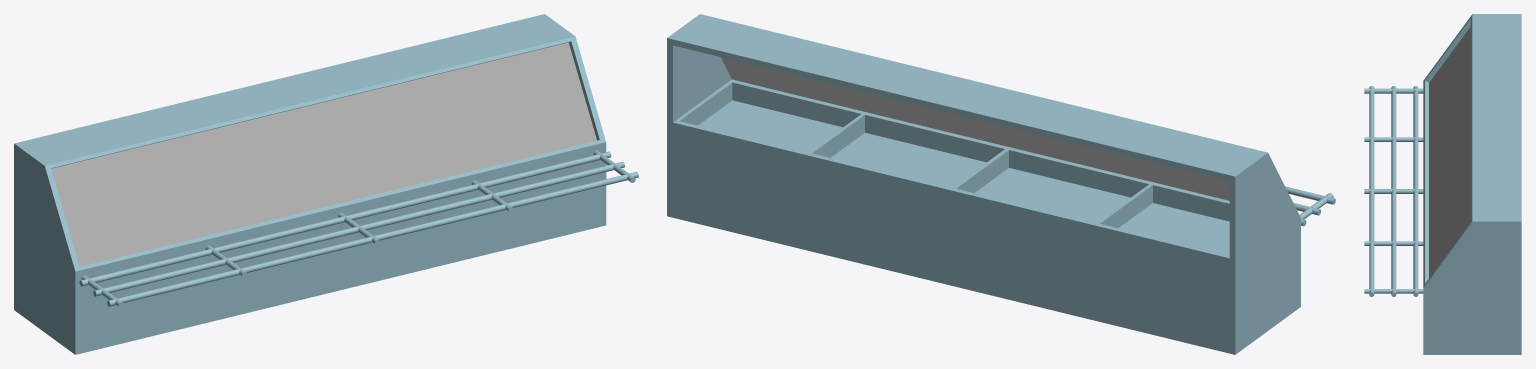
Rendered from Food Line.fbx.
The picture shows the model from 3 angles, left to right: view 1: azimuth 30°, elevation 25°; view 2: azimuth 150°, elevation 25°; view 3: azimuth 270°, elevation 25°; orthographic projection. The views are drawn at different scales.
Parts seen in each view (by area): view 1: Cube; view 2: Cube; view 3: Cube.
Boxes of the visible parts, bbox=[...] form: Cube: bbox=[14, 14, 638, 354]; Cube: bbox=[667, 14, 1335, 354]; Cube: bbox=[1364, 14, 1521, 354].
Size of the model in its own units: 1000 by 300 by 320.
